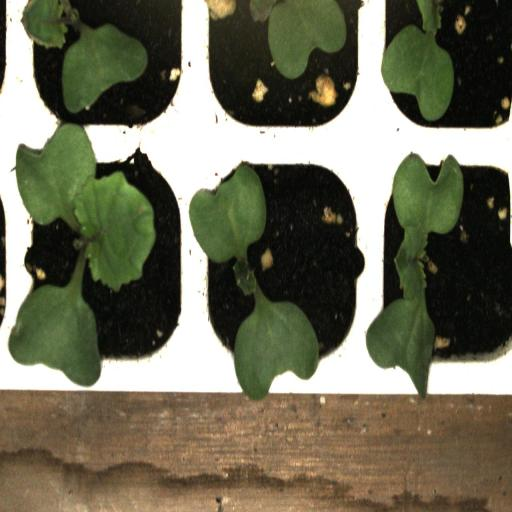Folha: (23, 0, 148, 114), (233, 271, 321, 400), (381, 0, 454, 122), (189, 164, 266, 264), (252, 0, 348, 80)
Germinacao: (188, 141, 370, 380), (18, 137, 187, 371), (369, 141, 512, 381)
